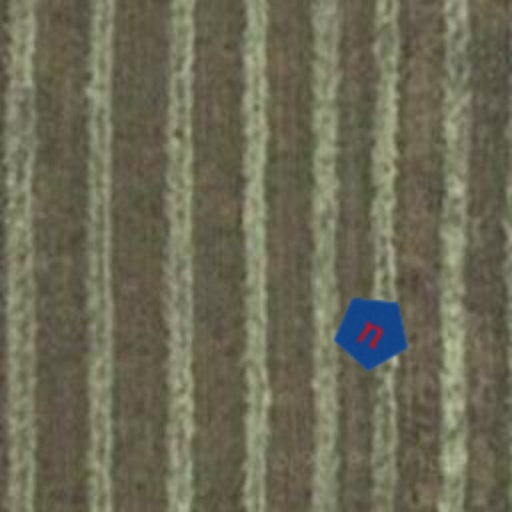pentagon: (318, 278, 426, 386)
